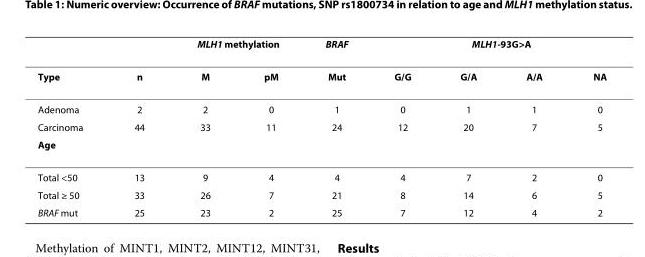table: (36, 36, 606, 218)
table column: (36, 36, 107, 218), (301, 36, 370, 218), (500, 36, 567, 218), (170, 36, 236, 218), (434, 36, 500, 218), (236, 36, 301, 218), (370, 36, 434, 218), (107, 36, 170, 218), (567, 36, 606, 218)
table column header: (36, 36, 606, 92)
table projected row header: (36, 135, 606, 160)
table row: (36, 59, 606, 92), (36, 92, 606, 117), (36, 135, 606, 160), (36, 160, 606, 185), (36, 36, 606, 59), (36, 117, 606, 135), (36, 185, 606, 203), (36, 203, 606, 218)
table spanning cell: (370, 36, 606, 59), (36, 36, 107, 92), (301, 36, 370, 92), (107, 36, 170, 92), (170, 36, 301, 59)
